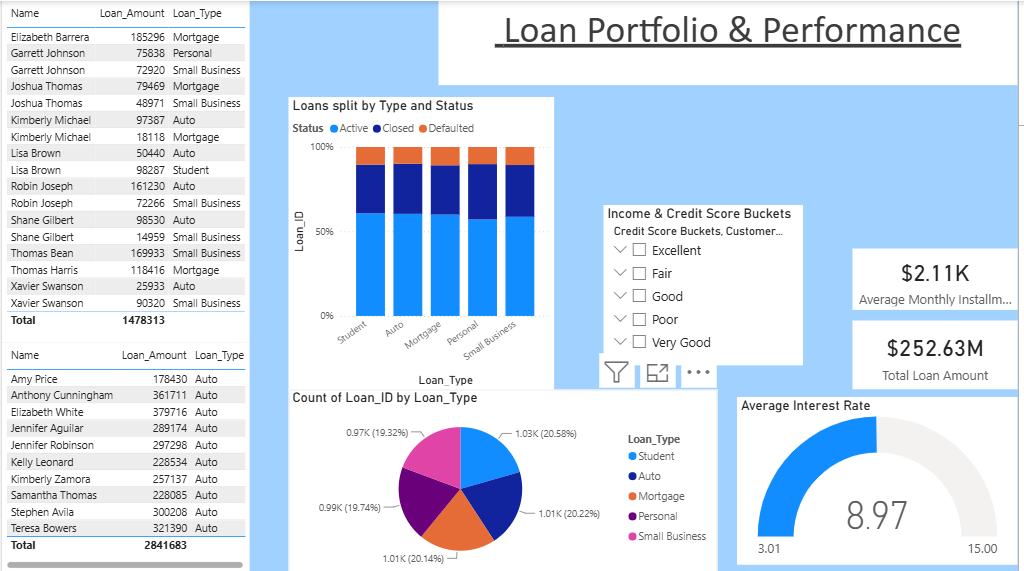

The dashboard page shown, as its layout file describes it:
{"tool":"powerbi","page":{"name":"Loan Portfolio & Performance","canvas":[1280,720],"ordinal":1},"visuals":[{"type":"card","fields":{"Values":["Analysis.Total Loan Amount"]},"box":[1071.5,402.5,207.9,86.9],"z":0},{"type":"card","fields":{"Values":["Analysis.Average Monthly Installment"]},"box":[1071.5,311.8,207.9,77.5],"z":1000},{"type":"gauge","title":"Average Interest Rate","fields":{"MaxValue":["Max(Loan_Details.Interest_Rate)1"],"MinValue":["Min(Loan_Details.Interest_Rate)"],"Y":["Analysis.Average Interest Rate"]},"box":[926,498.9,353.4,211.7],"z":2000},{"type":"slicer","title":"Income & Credit Score Buckets","fields":{"Values":["Customer_Details.Credit Score Buckets","Master.Income Buckets"]},"box":[757.8,257,251.3,202.2],"z":3000},{"type":"pieChart","fields":{"Category":["Loan_Details.Loan_Type"],"Y":["CountNonNull(Loan_Details.Loan_ID)"]},"box":[360.9,489.5,540.5,230.6],"z":4000},{"type":"hundredPercentStackedColumnChart","title":"Loans split by Type and Status","fields":{"Category":["Loan_Details.Loan_Type"],"Series":["Loan_Details.Status"],"Y":["CountNonNull(Loan_Details.Loan_ID)"]},"box":[360.9,120.9,334.5,368.5],"z":5000},{"type":"tableEx","fields":{"Values":["Customer_Details.Name","Sum(Loan_Details.Loan_Amount)","Loan_Details.Loan_Type"]},"box":[0,0,311.8,430.9],"z":6000},{"type":"tableEx","fields":{"Values":["Customer_Details.Name","Sum(Master.Loan_Details.Loan_Amount)","Loan_Details.Loan_Type"]},"box":[0,430.9,311.8,289.1],"z":7000},{"type":"textbox","box":[549.9,0,729.5,105.8],"z":8000}]}

Visuals, with their boxes in screenshot pixels (x1, y1, x2, y2), scaled from the page's 1280x720 canvas onto the 1024x571 screenshot:
card - Analysis.Total Loan Amount: 857:319:1023:388
card - Analysis.Average Monthly Installment: 857:247:1023:309
"Average Interest Rate" gauge: 741:396:1023:564
"Income & Credit Score Buckets" slicer: 606:204:807:364
pieChart - Loan_Details.Loan_Type x CountNonNull(Loan_Details.Loan_ID): 289:388:721:570
"Loans split by Type and Status" hundredPercentStackedColumnChart: 289:96:556:388
tableEx - Customer_Details.Name x Sum(Loan_Details.Loan_Amount): 0:0:249:342
tableEx - Customer_Details.Name x Sum(Master.Loan_Details.Loan_Amount): 0:342:249:570
textbox: 440:0:1023:84
